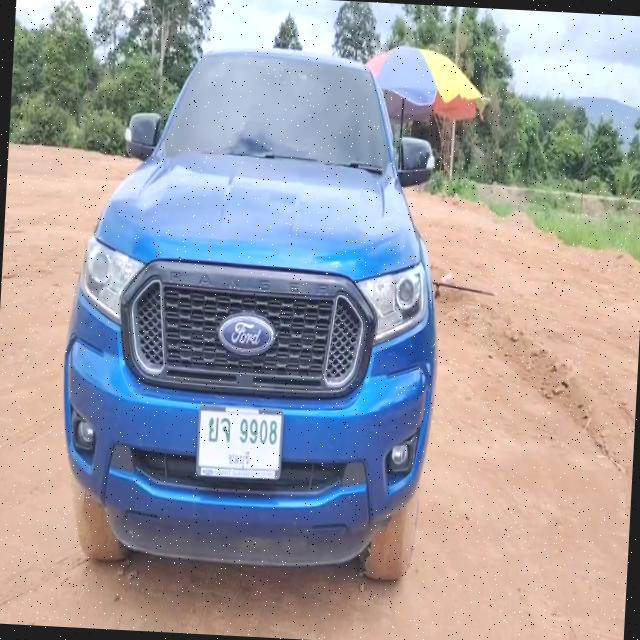Digit: (237, 412, 280, 448)
Licenseplate: (194, 402, 286, 486)
Provincename: (226, 448, 252, 472)
Thaichar: (206, 412, 233, 448)
